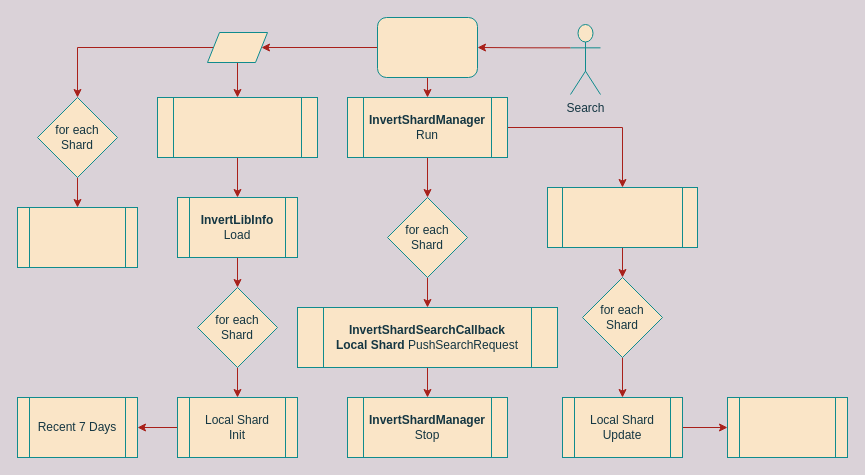
The diagram is 865 pixels wide and 475 high, and some of its shapes have lost their labels. The shapes that lost their labels are listed below. From the top down, each one's centre as x and y in pixels, then its label:
At point (237, 47): "Init".
At point (427, 47): "SearchUnit".
At point (237, 127): "InvertShardManager Instance".
At point (77, 237): "ShardSearcher Init;Bind;Run".
At point (622, 217): "InvertShardManager Update".
At point (787, 427): "Load files Within Search Duration".
